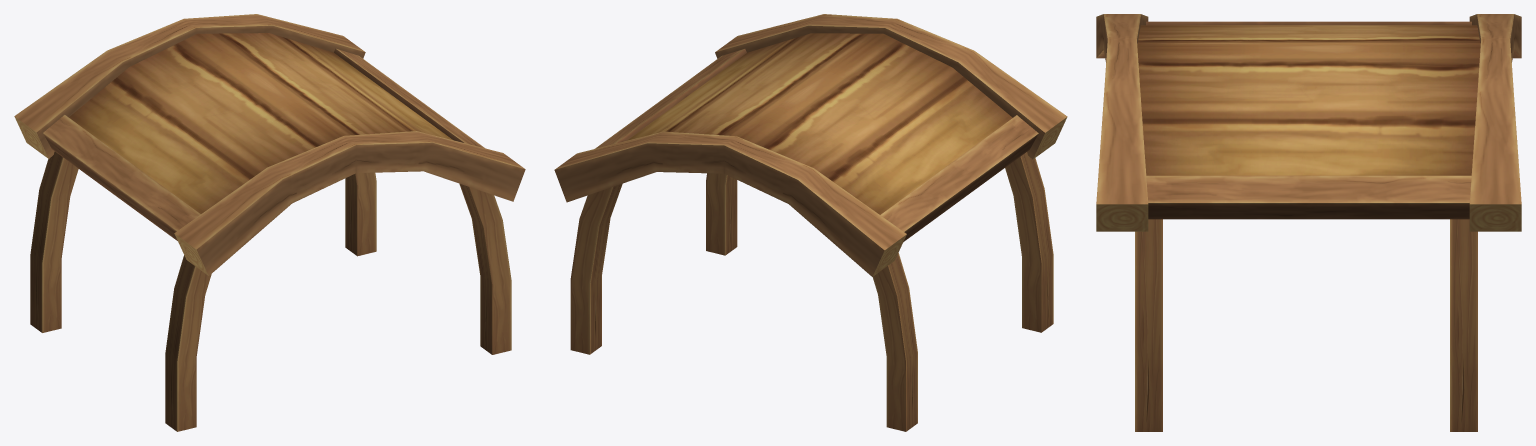
Rendered from bridge_02b_upside_tile_01.fbx.
3 views of the same model, side by side, from view 1: azimuth 30°, elevation 25°; view 2: azimuth 150°, elevation 25°; view 3: azimuth 270°, elevation 25° (orthographic). The views are drawn at different scales.
Parts seen in each view (by area): view 1: bridge_02b_upside_tile_01; view 2: bridge_02b_upside_tile_01; view 3: bridge_02b_upside_tile_01.
Part boxes in pixels (x1,y1,x2,y2): bridge_02b_upside_tile_01: (14, 14, 525, 431); bridge_02b_upside_tile_01: (554, 14, 1067, 431); bridge_02b_upside_tile_01: (1096, 14, 1521, 431).
Bounding box in the file's own units: 1.89 × 1.38 × 1.79.
